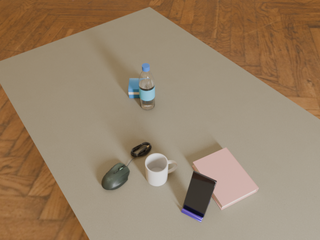book: (192, 148, 259, 210)
bottle: (139, 63, 155, 110)
box: (128, 79, 140, 98)
cup: (145, 153, 177, 186)
mouse: (102, 163, 130, 190)
phone: (183, 170, 217, 217)
